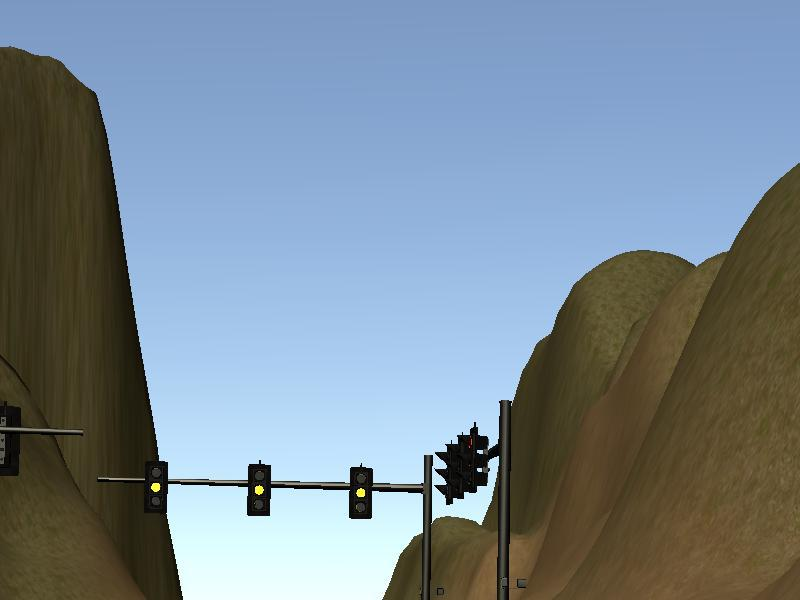Yellow: (144, 461, 168, 512), (248, 465, 271, 517), (350, 467, 373, 519)
